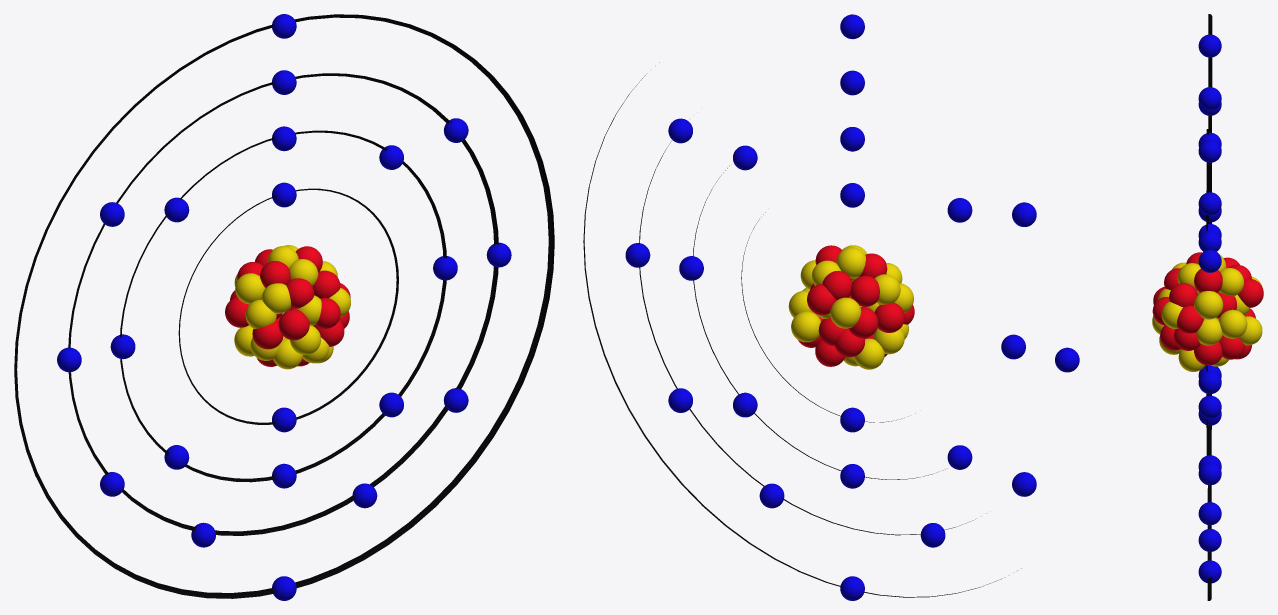
The model's file is SC - Escandio.fbx.
3 renders of one model, left to right at view 1: azimuth 30°, elevation 25°; view 2: azimuth 150°, elevation 25°; view 3: azimuth 270°, elevation 25°, orthographic. The views are drawn at different scales.
Visible parts, largest first — view 1: Sphere.124, Sphere.000, Sphere.002, Sphere.003, Sphere.004; view 2: Sphere.124, Sphere.000, Sphere.002; view 3: Sphere.124, Sphere.000, Sphere.002, Sphere.003.
Boxes of the visible parts, bbox=[...] form: Sphere.124: bbox=[57, 14, 511, 600]; Sphere.000: bbox=[14, 14, 554, 598]; Sphere.002: bbox=[68, 73, 498, 535]; Sphere.003: bbox=[120, 130, 446, 482]; Sphere.004: bbox=[178, 188, 398, 424]; Sphere.124: bbox=[625, 14, 1079, 600]; Sphere.000: bbox=[583, 62, 1017, 597]; Sphere.002: bbox=[639, 121, 975, 535]; Sphere.124: bbox=[1152, 34, 1263, 583]; Sphere.000: bbox=[1207, 14, 1212, 600]; Sphere.002: bbox=[1208, 73, 1211, 528]; Sphere.003: bbox=[1206, 129, 1208, 455].
Size of the model in its own units: 5021 by 5199 by 962.
